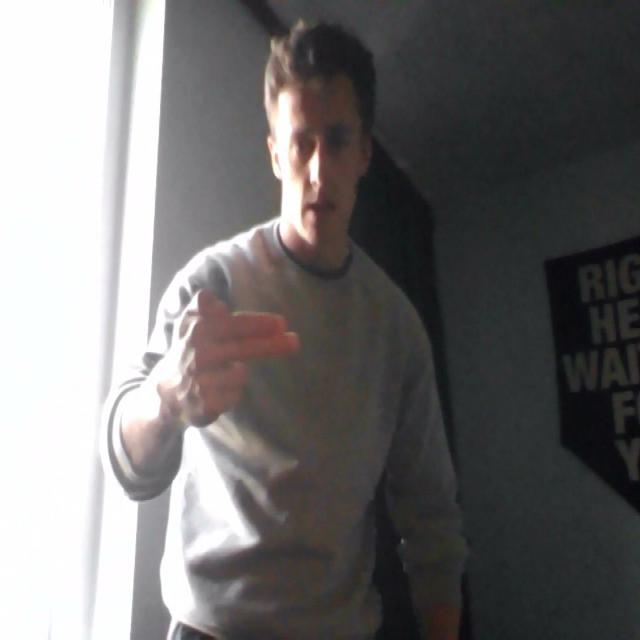right: (153, 276, 315, 432)
